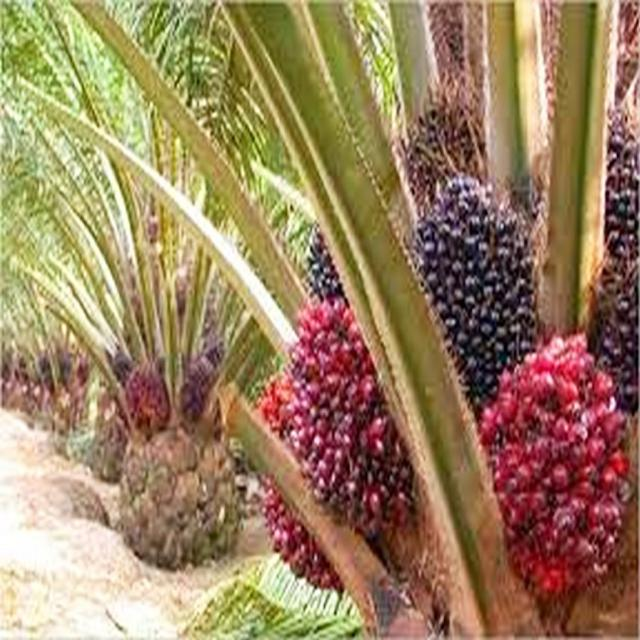FFB: (256, 302, 409, 589), (488, 331, 628, 607), (399, 173, 532, 390), (130, 363, 167, 434), (186, 363, 217, 422)
